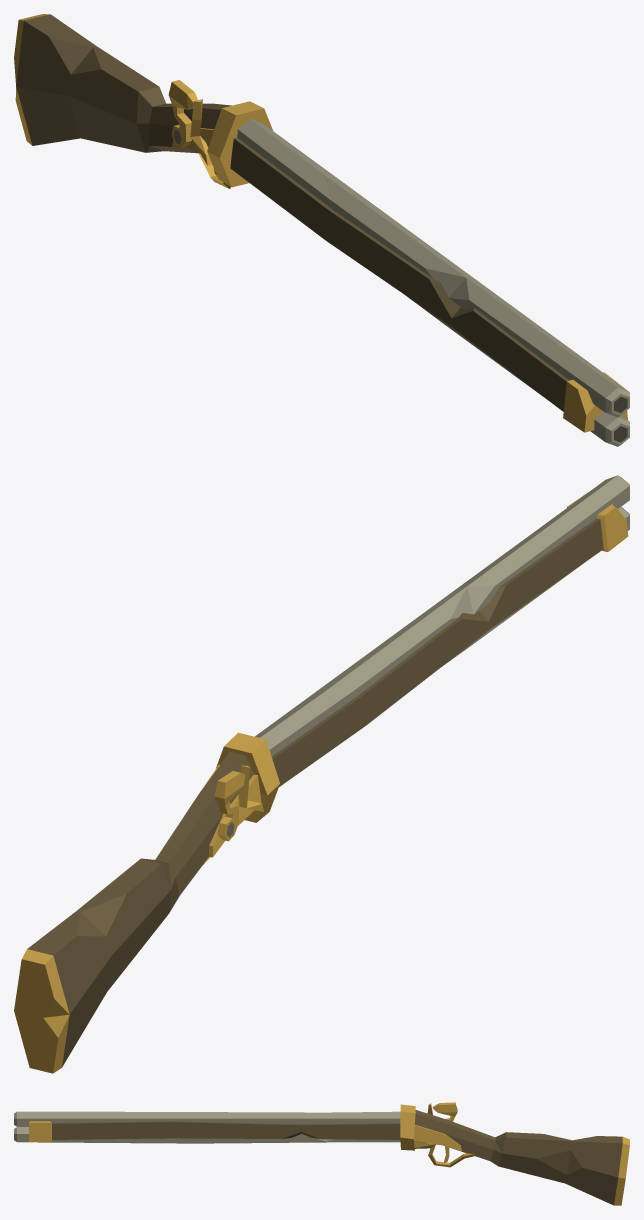
Rendered from Rifle_4.fbx.
3 views of the same model, one above another, from view 1: azimuth 30°, elevation 25°; view 2: azimuth 150°, elevation 25°; view 3: azimuth 270°, elevation 25° (orthographic). The views are drawn at different scales.
Parts seen in each view (by area): view 1: Rifle_4; view 2: Rifle_4; view 3: Rifle_4.
Part boxes in pixels (<box>): Rifle_4: <box>14,14,629,446</box>; Rifle_4: <box>14,475,629,1073</box>; Rifle_4: <box>14,1102,629,1205</box>.
Size of the model in its own units: 7.62 by 22.55 by 133.
